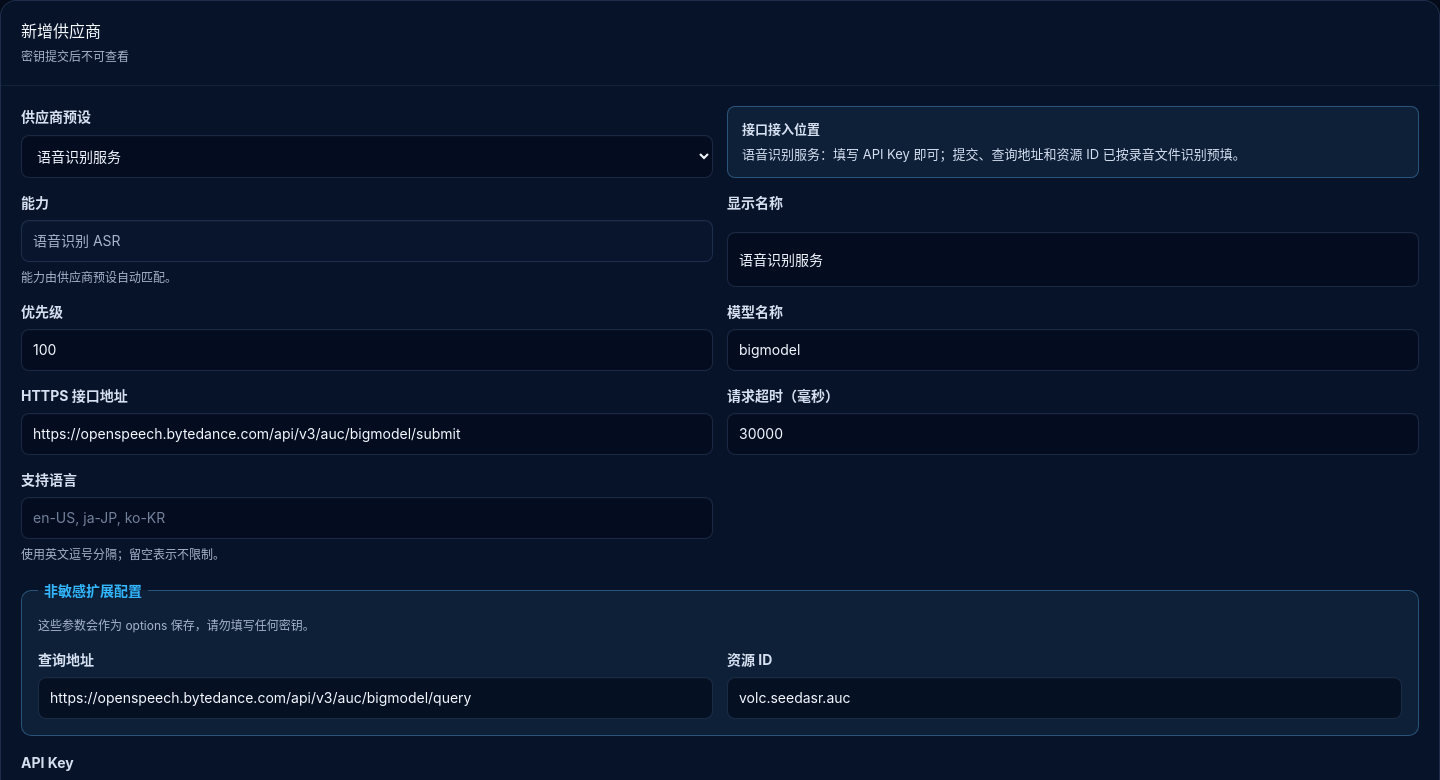
Test: ProviderEditor › prefills the official Youdao simultaneous interpretation fields
Select "同声传译服务" in the dropdown labelled "供应商预设" at (367, 156), box [21, 135, 713, 178]
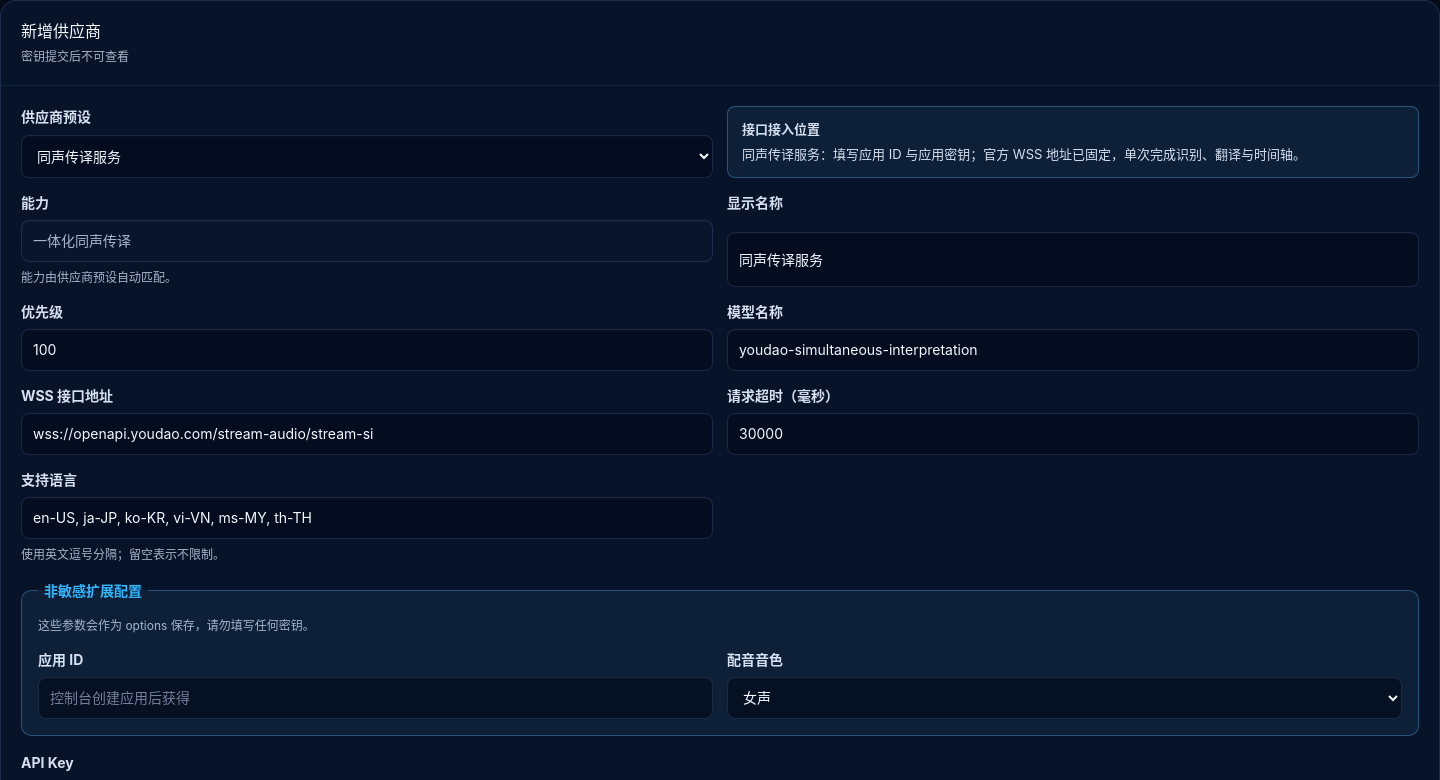
Now the field labelled "模型名称" holds "youdao-simultaneous-interpretation", box [727, 329, 1419, 371]
Now the field labelled "WSS 接口地址" holds "wss://openapi.youdao.com/stream-audio/stream-si", box [21, 413, 713, 455]
Now the field with id "option-app-key" is empty, box [38, 677, 713, 719]
